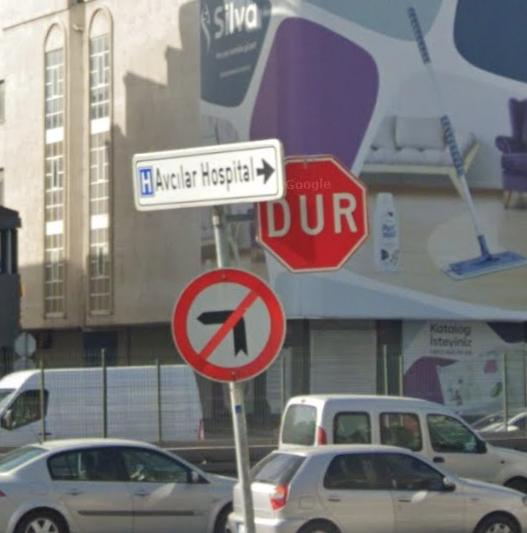leftturnsareforbidden: (173, 270, 287, 378)
stop: (264, 159, 362, 258)
